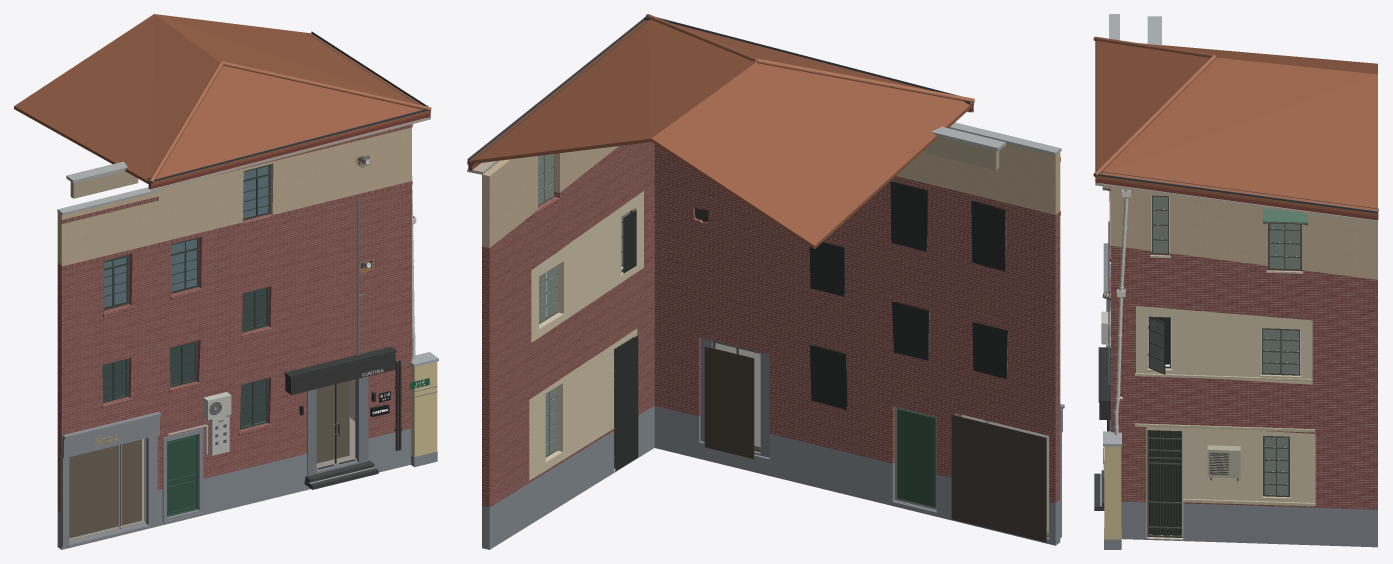
The model's file is full-source.glb.
The picture shows the model from 3 angles, left to right: view 1: azimuth 30°, elevation 25°; view 2: azimuth 150°, elevation 25°; view 3: azimuth 270°, elevation 25°; orthographic projection. The views are drawn at different scales.
Visible parts, largest first — view 1: 新乐坊143-1号临街窗墙与弄口门柱; view 2: 新乐坊143-1号临街窗墙与弄口门柱; view 3: 新乐坊143-1号临街窗墙与弄口门柱.
Boxes of the visible parts, left/top/right/bottom form: 新乐坊143-1号临街窗墙与弄口门柱: left=14, top=14, right=438, bottom=549; 新乐坊143-1号临街窗墙与弄口门柱: left=467, top=14, right=1064, bottom=549; 新乐坊143-1号临街窗墙与弄口门柱: left=1093, top=14, right=1378, bottom=549.
Bounding box in the file's own units: 12.04 × 12.13 × 7.58.
59 materials, 2 textured.
